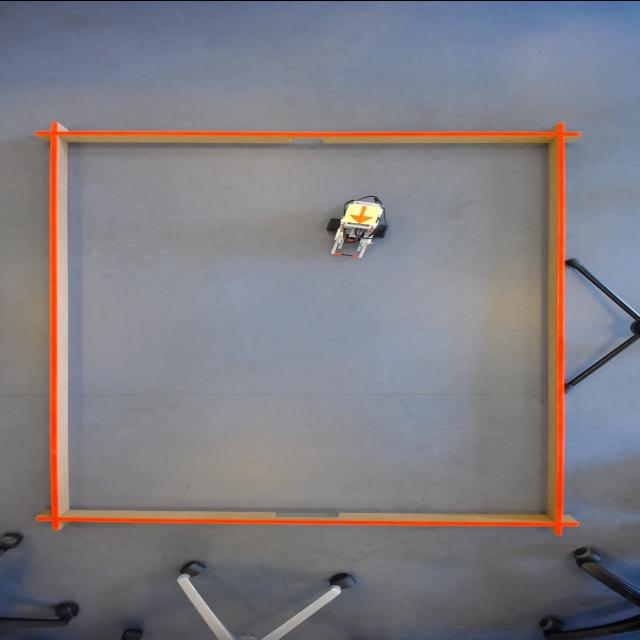robot: (341, 202, 384, 225)
